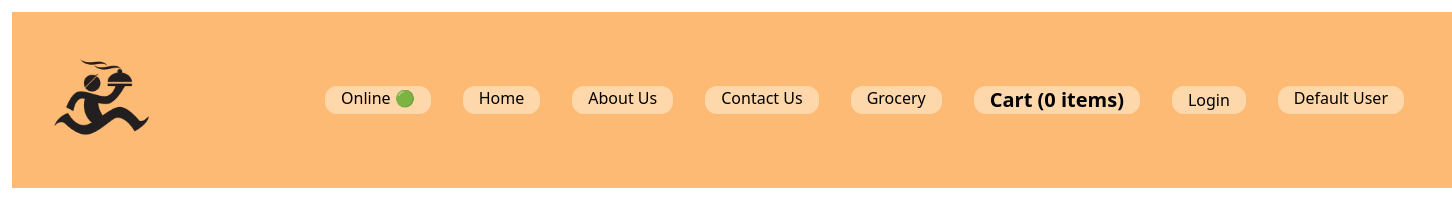
Should toggle login and logout on click
Click the button "Login" at (1209, 100), box [1172,86,1246,114]
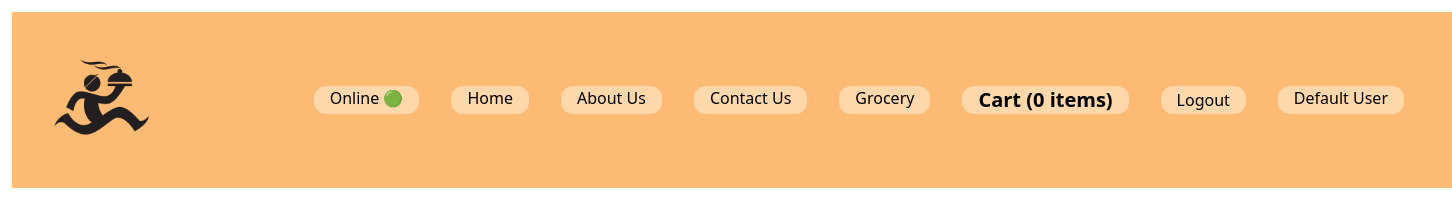
Expected: the button "Logout" is shown, [1161,86,1246,114]
